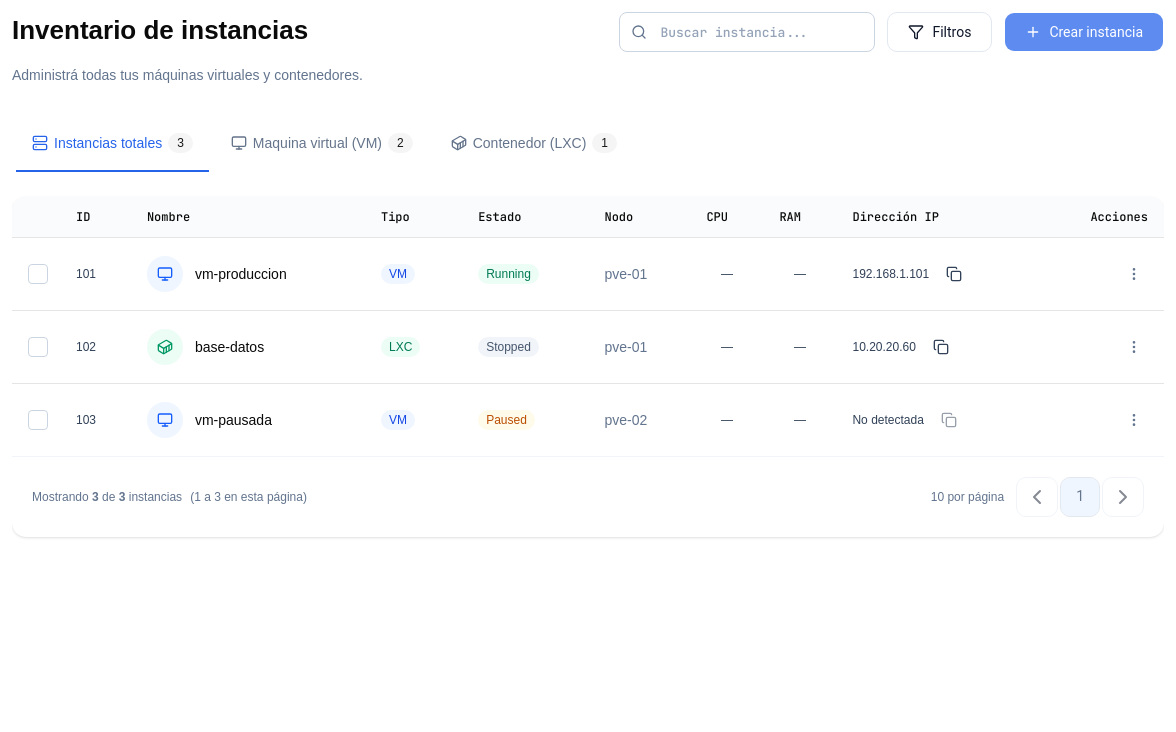
Scenario: Filtros del inventario de instancias › filtra por nombre parcial, ID numérico e IP y no vuelve a consultar el inventario
Expected: the link "vm-produccion" is shown, [195,264,287,284]
Step 1. Type "prod" into the field named "Buscar por ID, nombre o IP" → (747, 32), box [619,12,875,52]
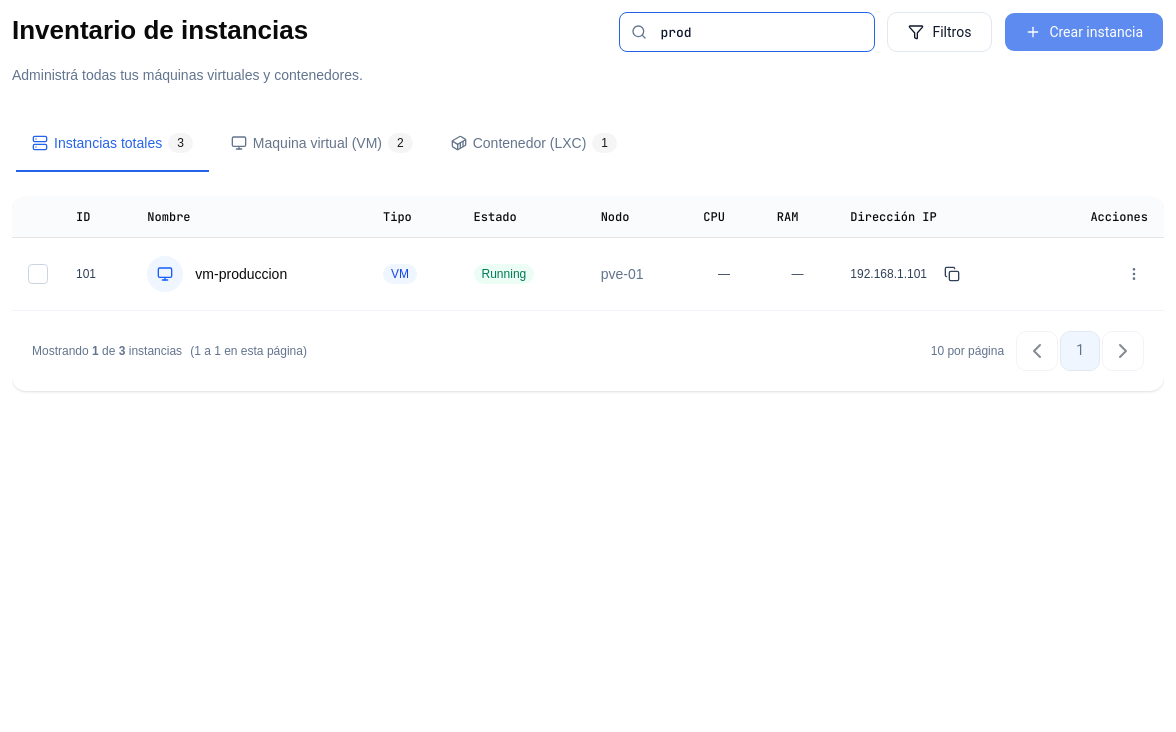
Expected: the link "vm-produccion" is shown, [195,264,287,284]
Expected: the link "base-datos" is gone
Step 2. Replace the text in the field named "Buscar por ID, nombre o IP" with "101" → (747, 32), box [619,12,875,52]
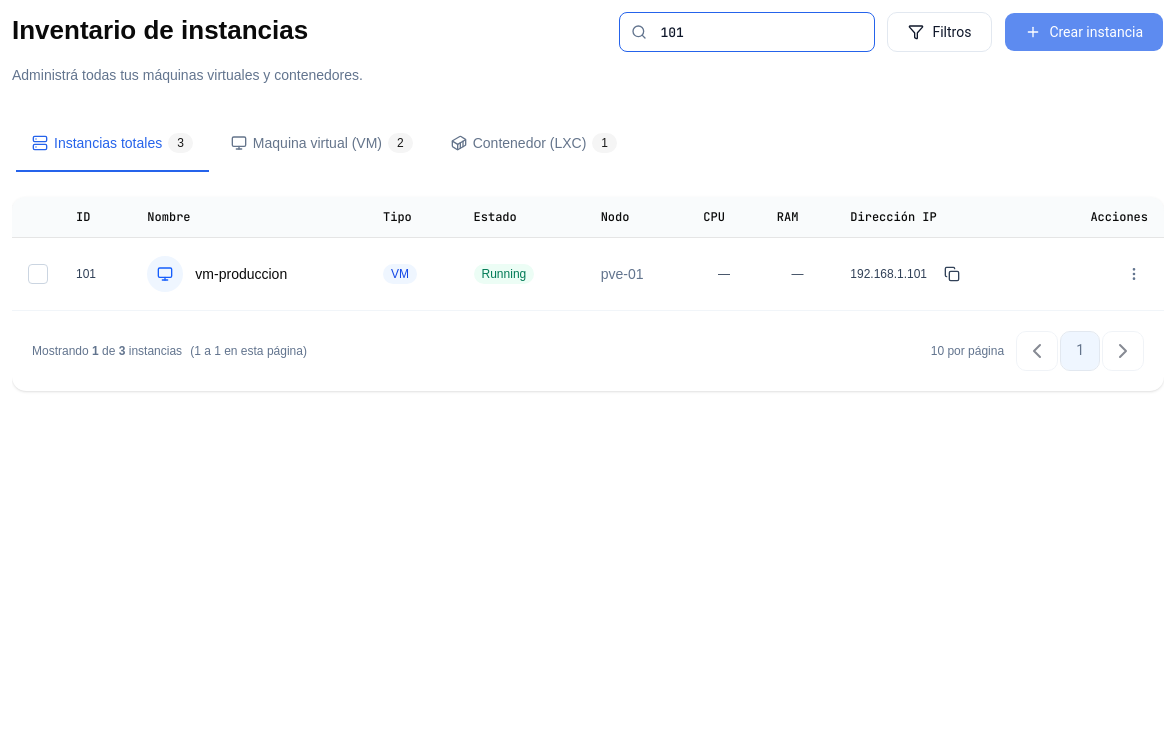
Expected: the link "vm-produccion" is shown, [195,264,287,284]
Expected: the link "base-datos" is not shown
Step 3. Replace the text in the field named "Buscar por ID, nombre o IP" with "10.20.20.60" → (747, 32), box [619,12,875,52]
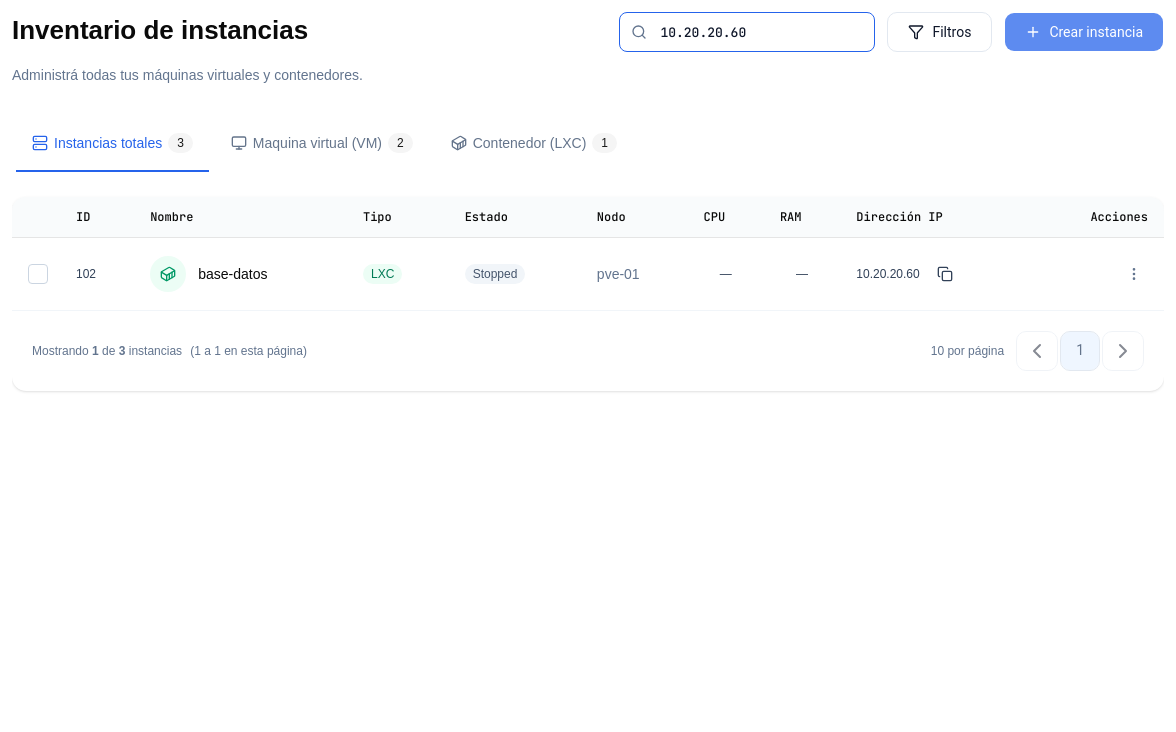
Expected: the link "base-datos" is shown, [198,264,268,284]
Expected: the link "vm-produccion" is gone
